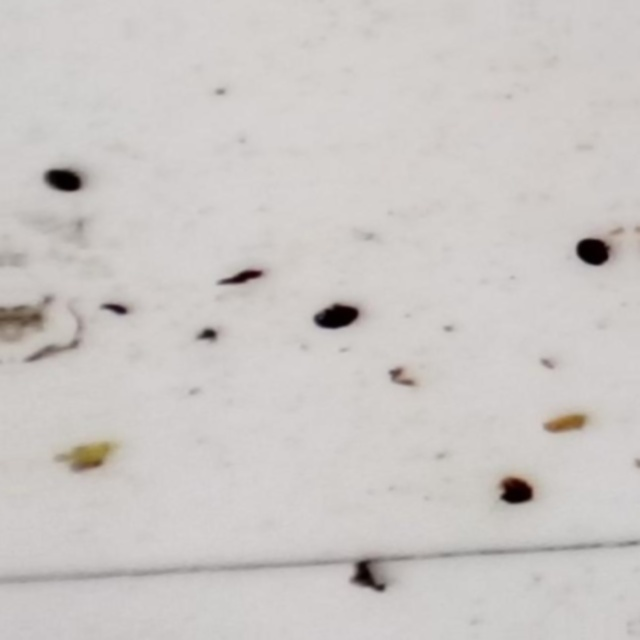varroa: (310, 301, 362, 332), (573, 234, 611, 268), (44, 165, 83, 196)
